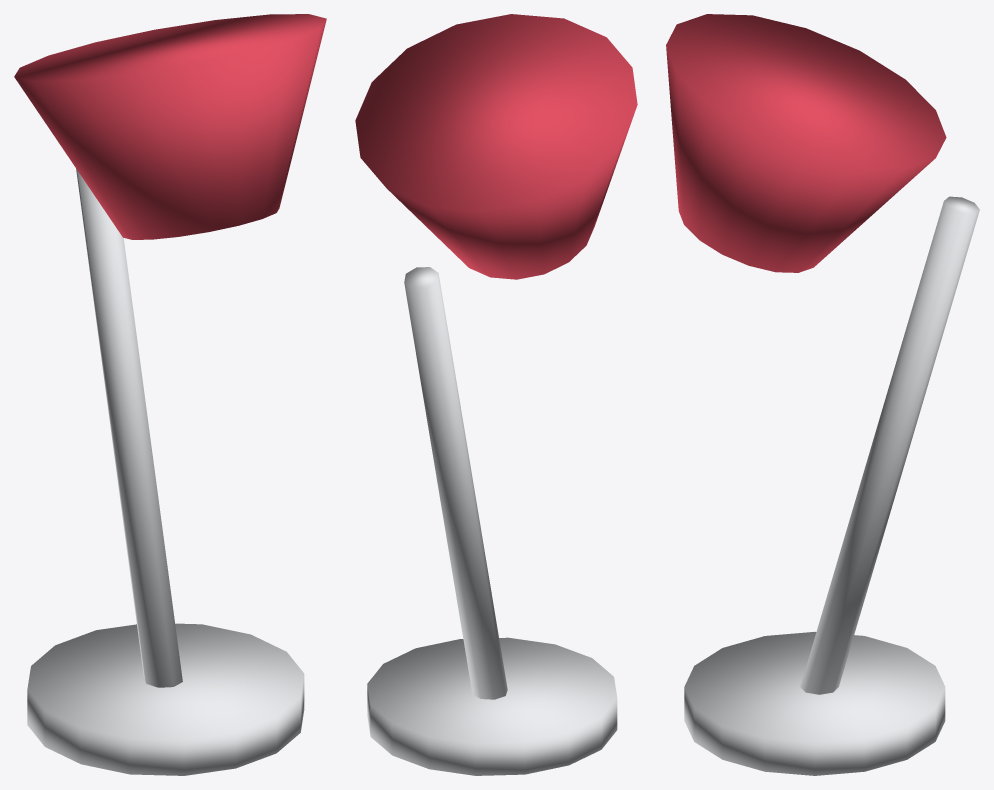
The model's file is DeskLamp.fbx.
3 renders of one model, left to right at view 1: azimuth 30°, elevation 25°; view 2: azimuth 150°, elevation 25°; view 3: azimuth 270°, elevation 25°, orthographic. The views are drawn at different scales.
Parts seen in each view (by area): view 1: DeskLampBody; view 2: DeskLampBody; view 3: DeskLampBody.
Part boxes in pixels (bbox=[...]): DeskLampBody: bbox=[14, 14, 326, 775]; DeskLampBody: bbox=[355, 14, 637, 775]; DeskLampBody: bbox=[666, 14, 979, 775].
Size of the model in its own units: 0.16 by 0.3996 by 0.1683.
